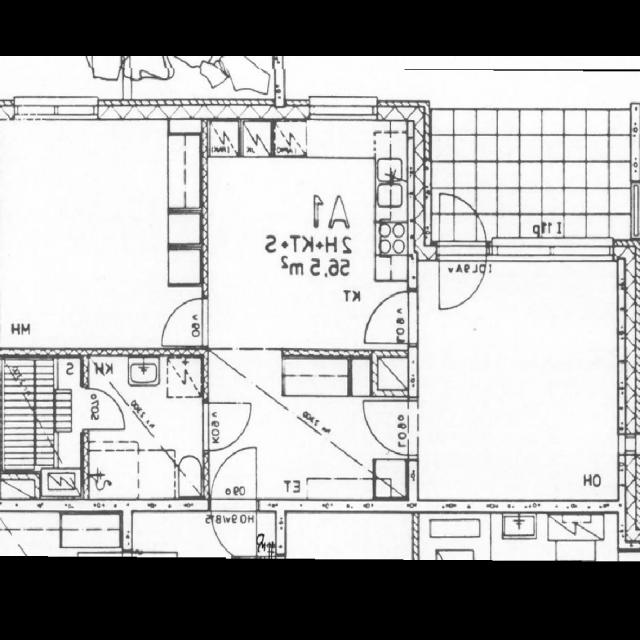door: (438, 240, 487, 319), (438, 184, 487, 262), (361, 400, 419, 455), (211, 497, 256, 566), (211, 444, 256, 512), (364, 291, 419, 342), (203, 402, 250, 451), (164, 297, 210, 343), (80, 388, 124, 429)
